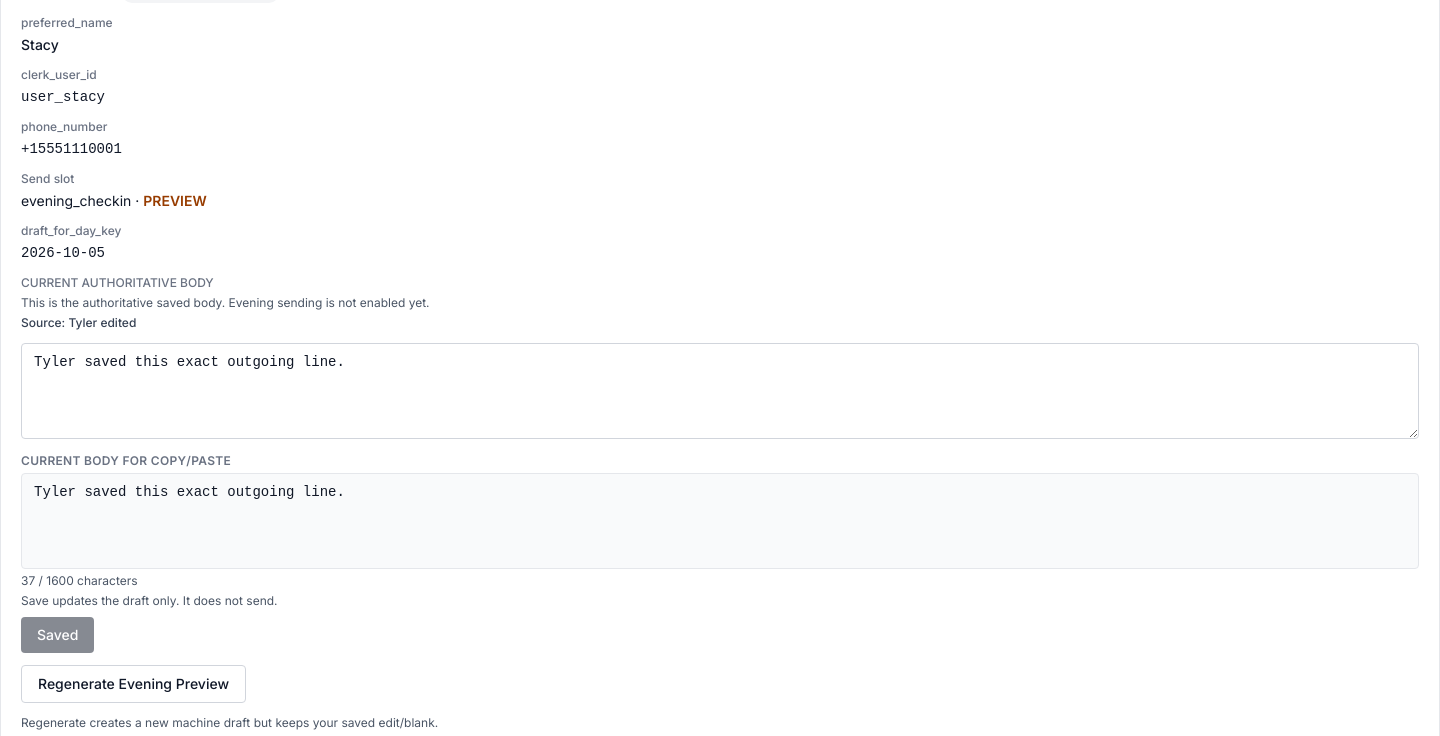
Test: current body copy/paste mirror › evening shows an unsaved Tyler edit in the textarea and the mirror immediately
(page scrolled)
Replace the text in the text box with "Tyler unsaved edit that must copy." at {"x": 720, "y": 391}, box [21,343,1419,439]
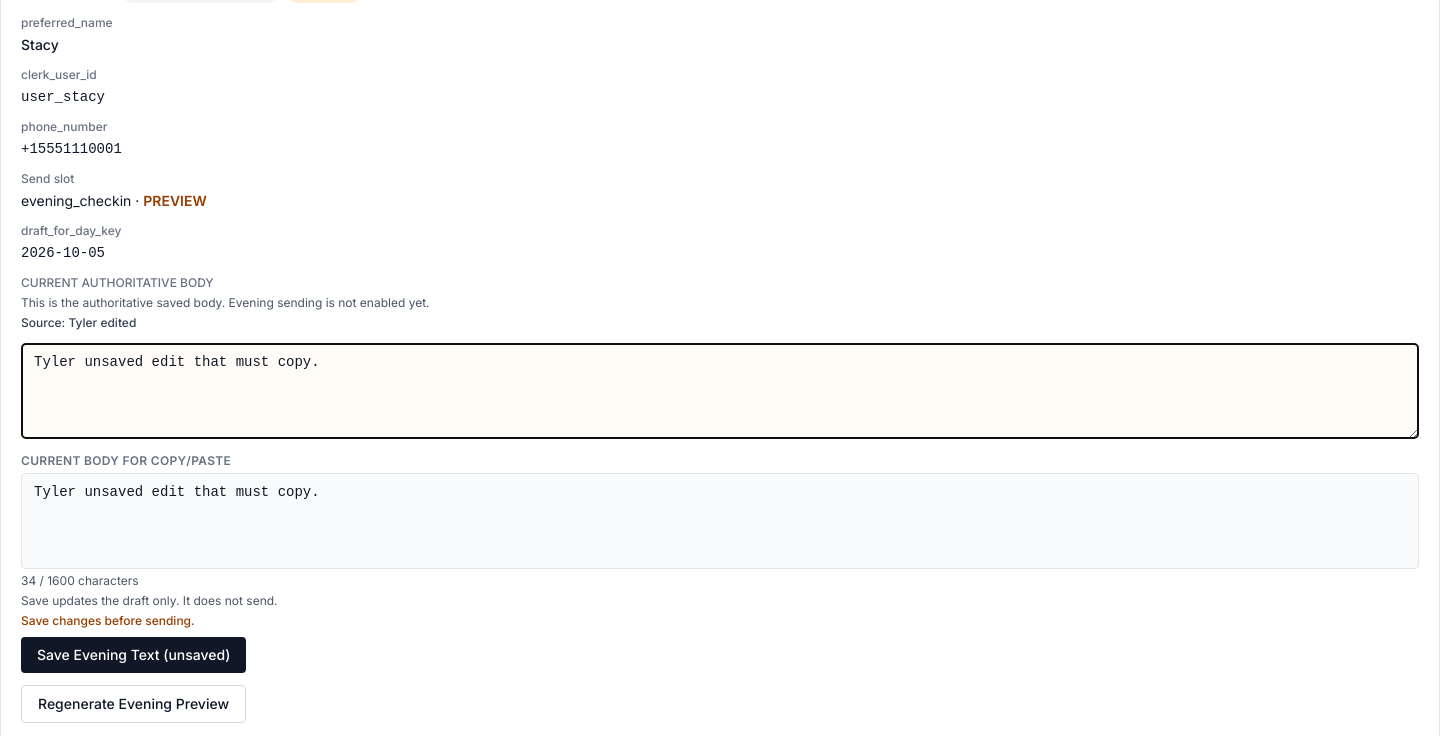
Expected: the element with test id "tto-current-body-copy" does not show "CURRENT BODY FOR COPY/PASTE"
Expected: the text with test id "tto-current-body-copy" reads "Tyler unsaved edit that must copy.", [34,484,320,500]
